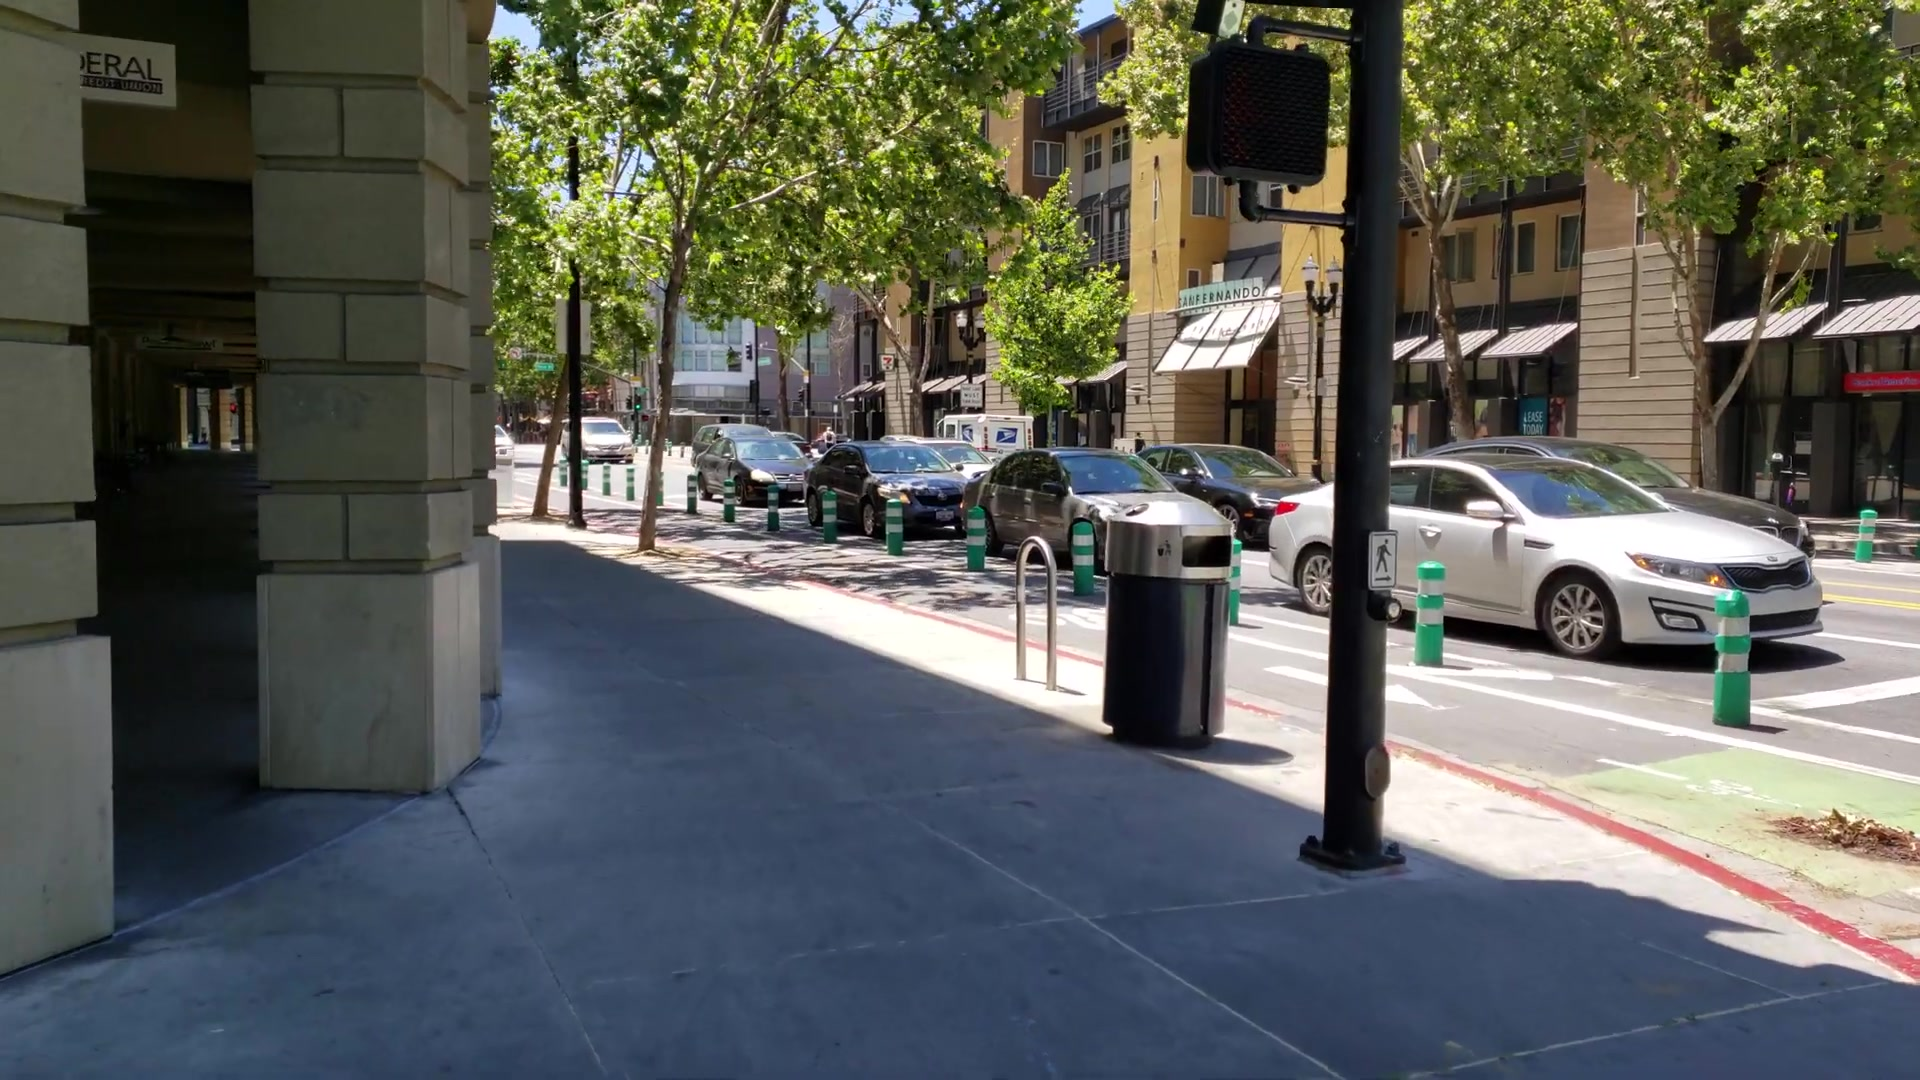vehicle: (1269, 455, 1826, 644), (806, 444, 964, 534), (691, 435, 800, 506)
